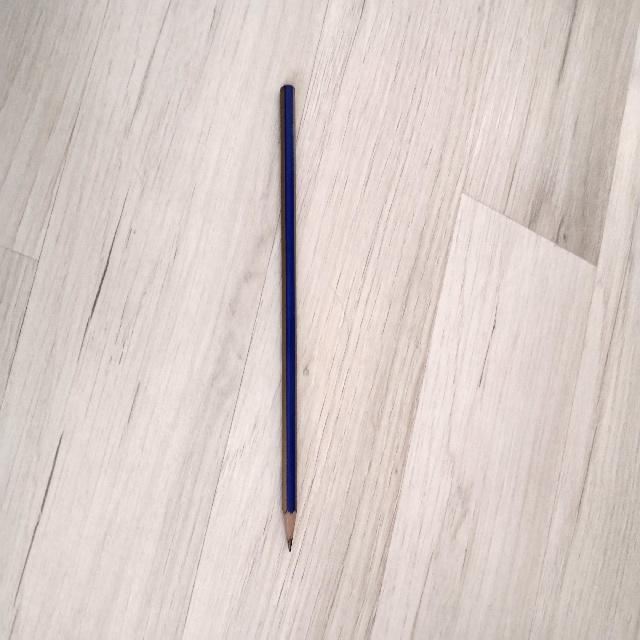pencil: (280, 85, 296, 550)
